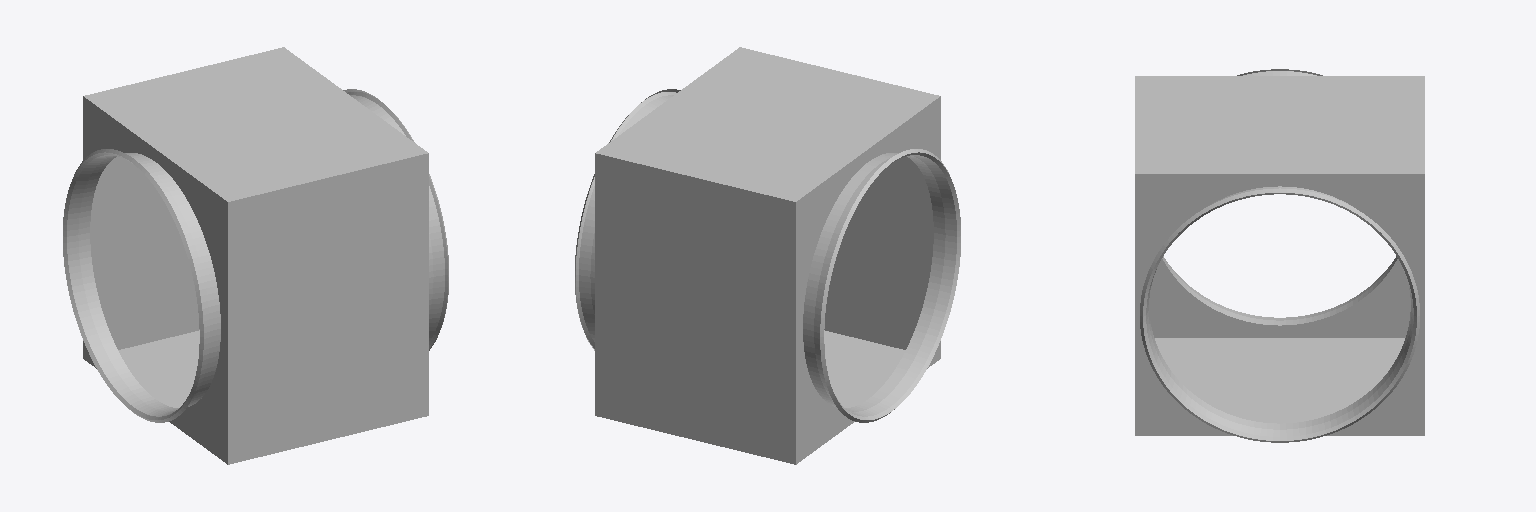
File: tubesc.obj
3 views of the same model, side by side, from view 1: azimuth 30°, elevation 25°; view 2: azimuth 150°, elevation 25°; view 3: azimuth 270°, elevation 25° (orthographic).
Parts seen in each view (by area): view 1: Escape_Cylinder.008; view 2: Escape_Cylinder.008; view 3: Escape_Cylinder.008.
Boxes of the visible parts, x1,y1,x2,y2 form: Escape_Cylinder.008: [63, 47, 448, 464]; Escape_Cylinder.008: [575, 47, 960, 464]; Escape_Cylinder.008: [1135, 69, 1424, 442].
Size of the model in its own units: 1.99 by 2 by 2.